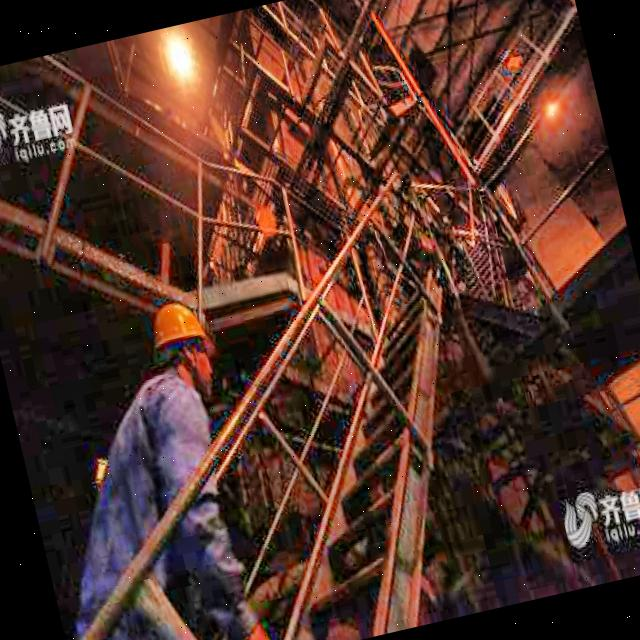helmet: (137, 288, 225, 406)
